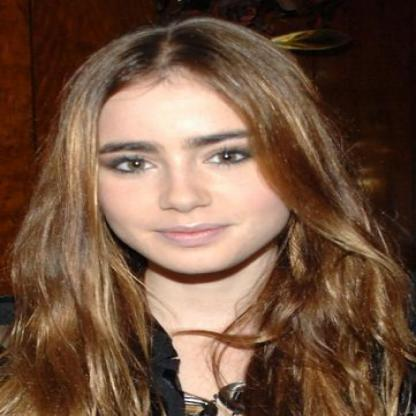long-hair: (0, 274, 414, 340)
